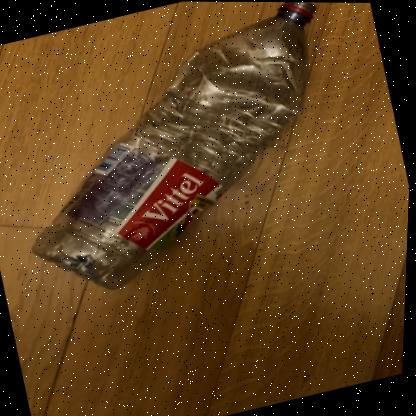Plastic: (34, 2, 313, 289)
